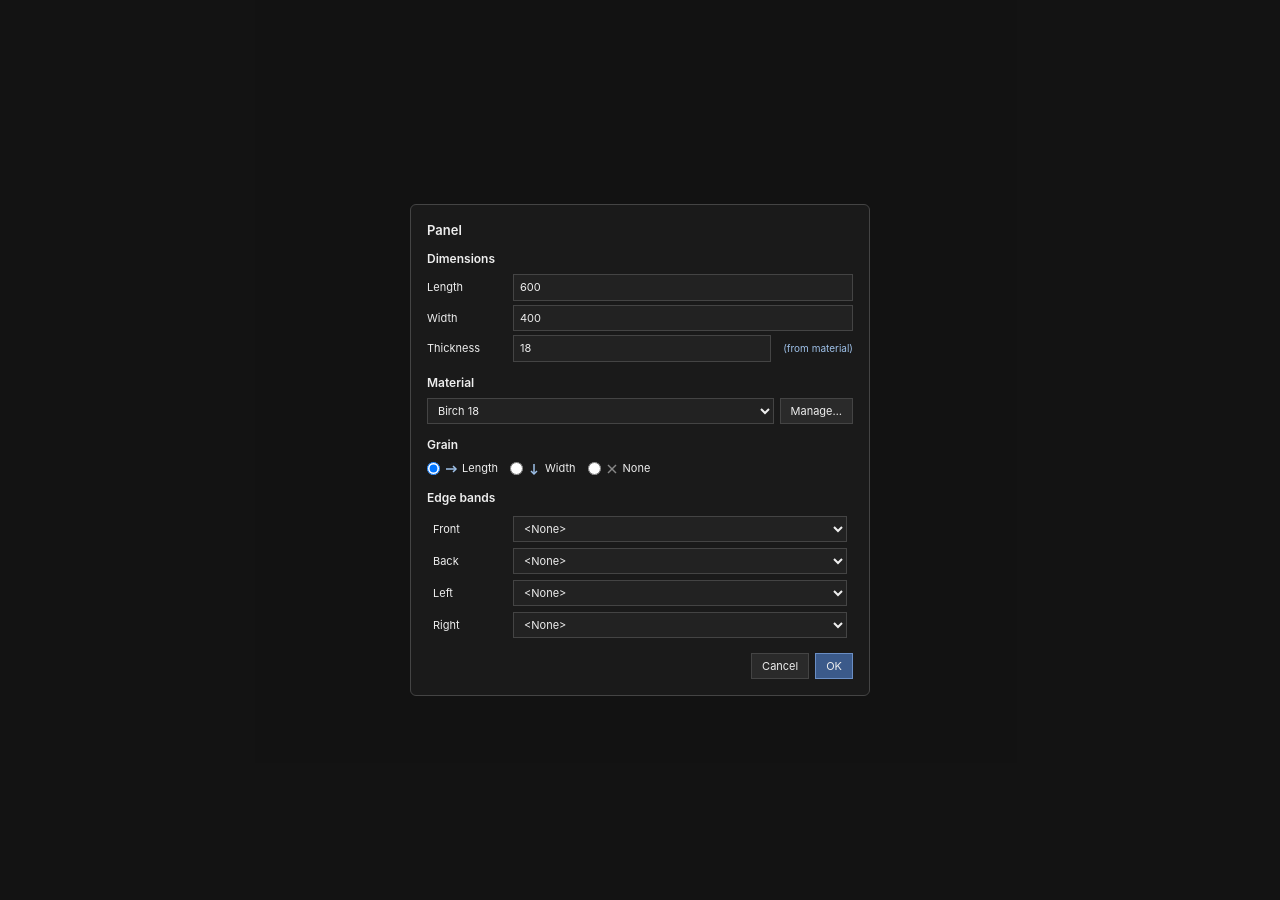
Test: PanelDialog › typing in Thickness clears the from-material flag
Expected: the text "(from material)" is shown, [783,341,853,356]
Replace the text in the field named "thickness" with "20": [642, 349] box [513,335,771,362]
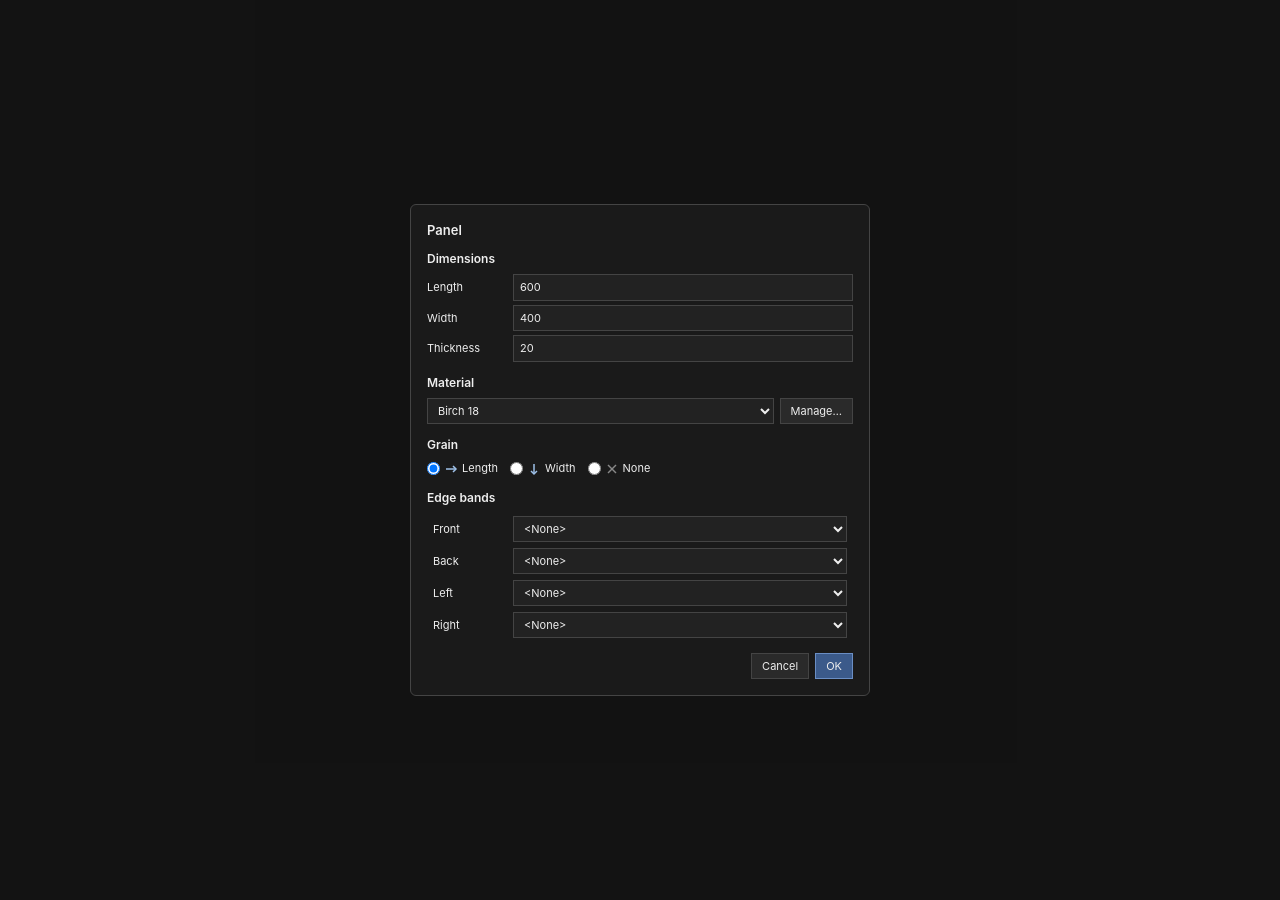
Expected: the text with test id "thickness-from-material-badge" is gone
